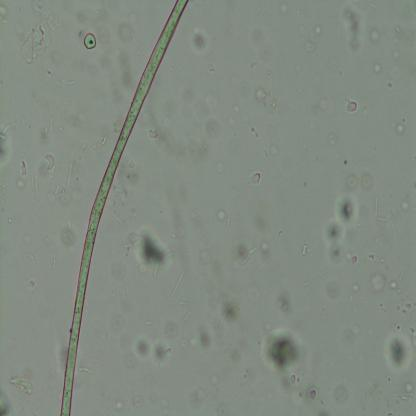Background material: (260, 326, 320, 406), (156, 98, 221, 164), (322, 188, 361, 265), (17, 0, 60, 62), (64, 5, 112, 47), (128, 227, 168, 268), (113, 162, 143, 214), (385, 325, 415, 372), (133, 338, 172, 369), (113, 8, 140, 46), (197, 249, 226, 282), (343, 6, 362, 56), (117, 46, 134, 90), (9, 368, 34, 395), (194, 318, 215, 350), (59, 218, 78, 249), (275, 291, 296, 318), (336, 329, 359, 353), (257, 235, 275, 264), (194, 55, 218, 75), (367, 268, 387, 292), (391, 46, 404, 82), (191, 28, 208, 55), (392, 382, 416, 400), (115, 293, 133, 315), (326, 276, 342, 300), (0, 384, 12, 416), (346, 280, 363, 302), (323, 124, 340, 145), (328, 51, 342, 75), (392, 304, 414, 319), (165, 321, 182, 340), (252, 84, 268, 103), (51, 181, 66, 201), (0, 140, 12, 165), (302, 40, 317, 59), (343, 96, 358, 115), (336, 383, 350, 403), (146, 122, 160, 142), (361, 171, 374, 192), (248, 124, 262, 143), (45, 153, 57, 174), (208, 370, 222, 388), (0, 2, 10, 27), (111, 397, 126, 412), (21, 228, 34, 245), (368, 26, 380, 44), (212, 208, 228, 221), (20, 153, 29, 176), (134, 390, 144, 410), (347, 173, 358, 191), (176, 338, 192, 350), (249, 171, 262, 185), (266, 148, 278, 162), (15, 176, 24, 194), (386, 278, 400, 289), (224, 116, 235, 129), (314, 23, 324, 37), (395, 121, 405, 135), (372, 61, 382, 74), (395, 25, 405, 37), (401, 200, 409, 213), (26, 279, 35, 290), (233, 104, 240, 113), (388, 78, 394, 88), (8, 218, 14, 226)
Glass filter fibre: (218, 299, 237, 334), (170, 266, 186, 298), (242, 242, 258, 266), (0, 117, 14, 140), (64, 163, 74, 190), (83, 31, 97, 50), (27, 249, 40, 265), (30, 174, 40, 192), (378, 213, 393, 224), (258, 3, 268, 18), (48, 116, 56, 134), (77, 366, 92, 375), (152, 262, 160, 278), (300, 242, 309, 256), (374, 195, 379, 219), (100, 132, 108, 146), (224, 216, 232, 229), (398, 268, 405, 282), (144, 319, 154, 327), (67, 78, 76, 86), (52, 256, 57, 270)
Microfibre: (60, 0, 190, 416)
